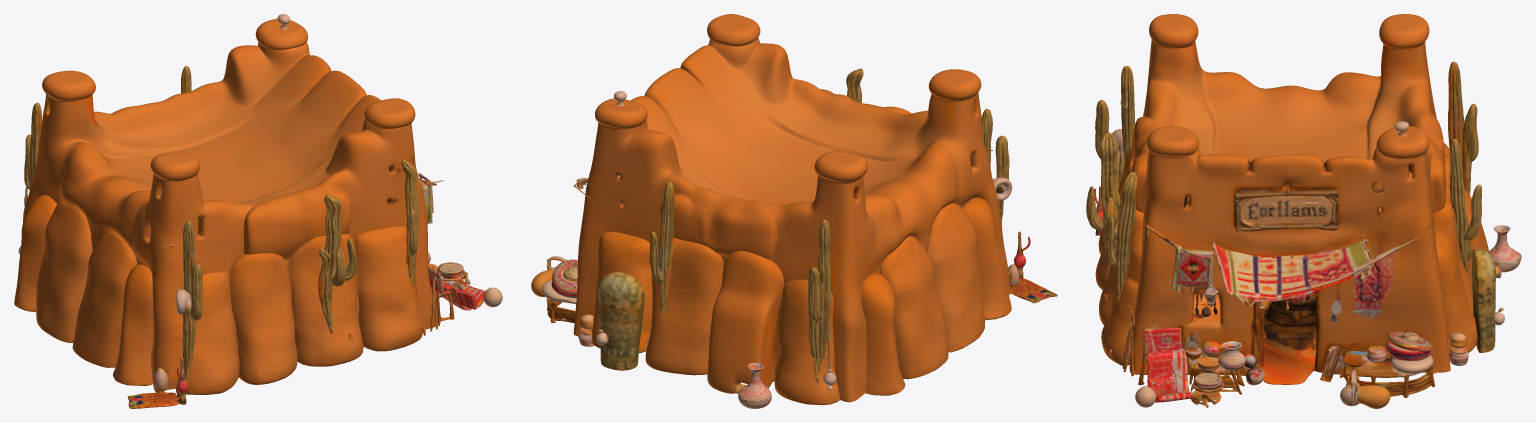
File: desert_shop.glb
3 renders of one model, left to right at view 1: azimuth 30°, elevation 25°; view 2: azimuth 150°, elevation 25°; view 3: azimuth 270°, elevation 25°, orthographic. The views are drawn at different scales.
Parts seen in each view (by area): view 1: tripo_node_5703bab1-9b91-4326-87cc-268c491e2bae; view 2: tripo_node_5703bab1-9b91-4326-87cc-268c491e2bae; view 3: tripo_node_5703bab1-9b91-4326-87cc-268c491e2bae.
Boxes of the visible parts, x1,y1,x2,y2 form: tripo_node_5703bab1-9b91-4326-87cc-268c491e2bae: [14, 14, 502, 408]; tripo_node_5703bab1-9b91-4326-87cc-268c491e2bae: [531, 14, 1057, 408]; tripo_node_5703bab1-9b91-4326-87cc-268c491e2bae: [1086, 14, 1521, 408].
Size of the model in its own units: 1 by 0.5659 by 0.9226.
1 material, 1 textured.
